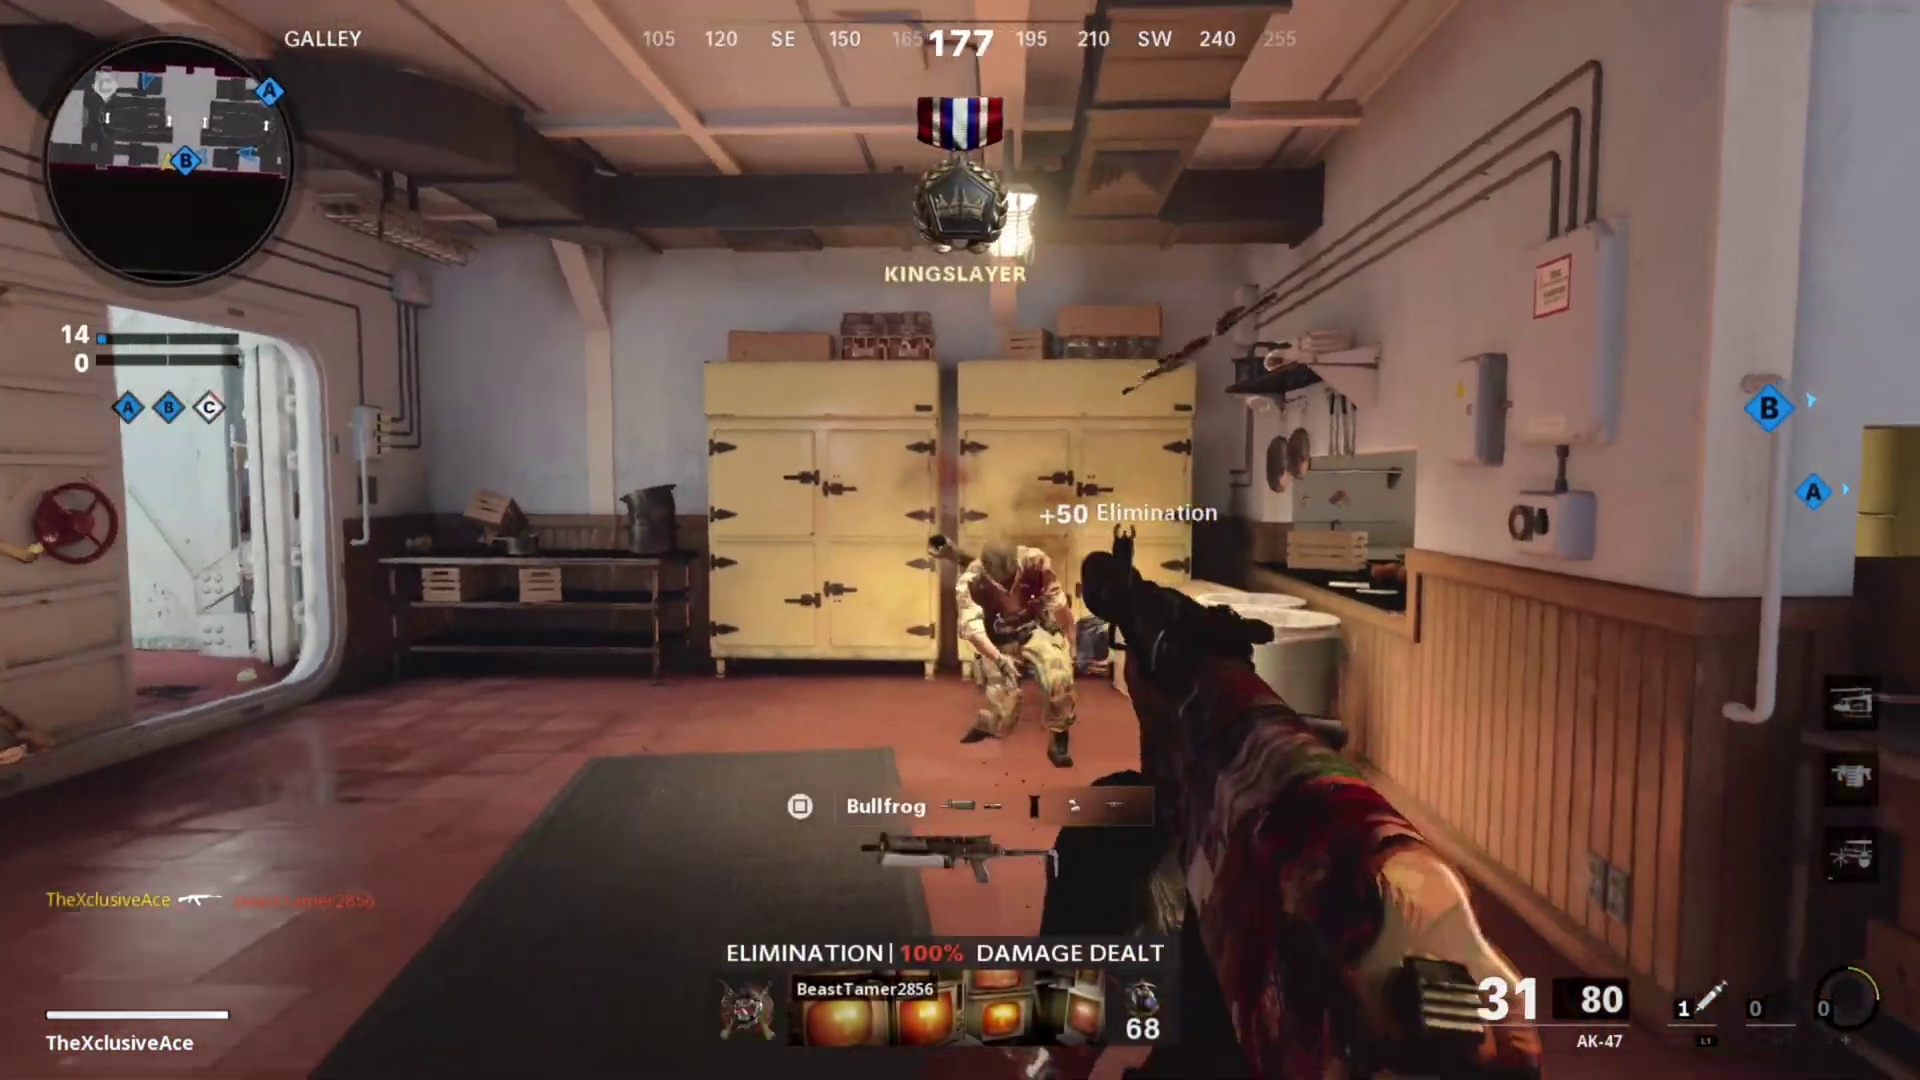head: (978, 537, 1022, 595)
person: (960, 541, 1070, 764)
